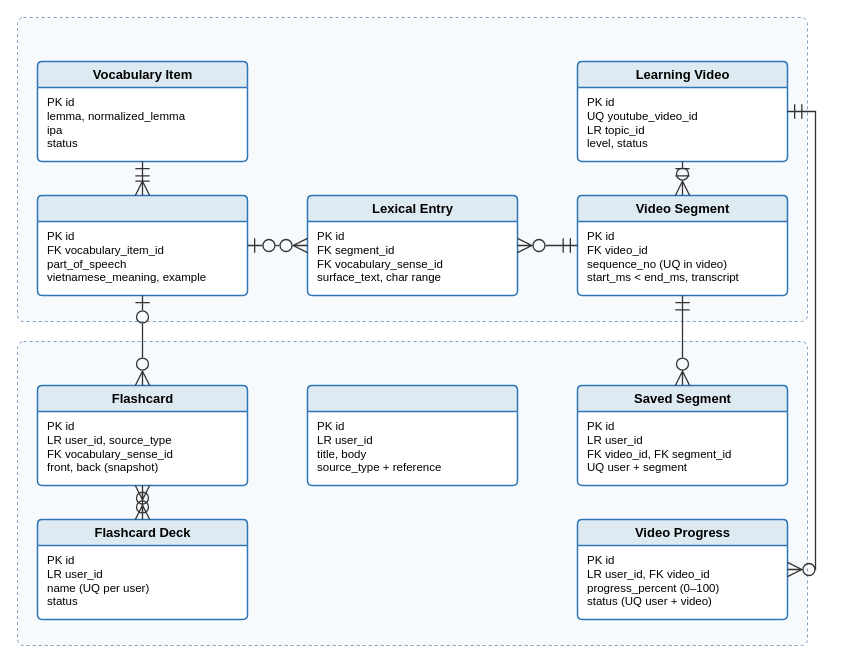
The diagram is 849 pixels wide and 663 high, and some of its shapes have lost their labels. Here are the shapes that lost their labels. From the top down, the box of each, then its label:
(16, 16, 808, 322): library-service · library_db — catalog
(36, 194, 248, 296): Vocabulary Sense
(306, 384, 518, 486): Note
(16, 340, 808, 646): library-service · library_db — personal library
